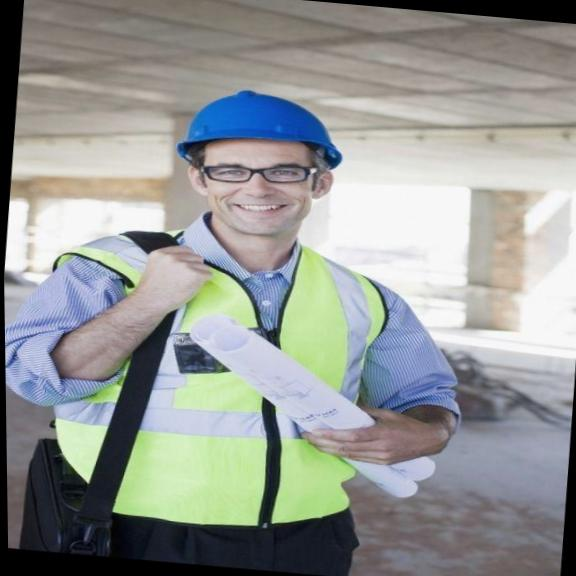safety_vest: (3, 225, 402, 552)
